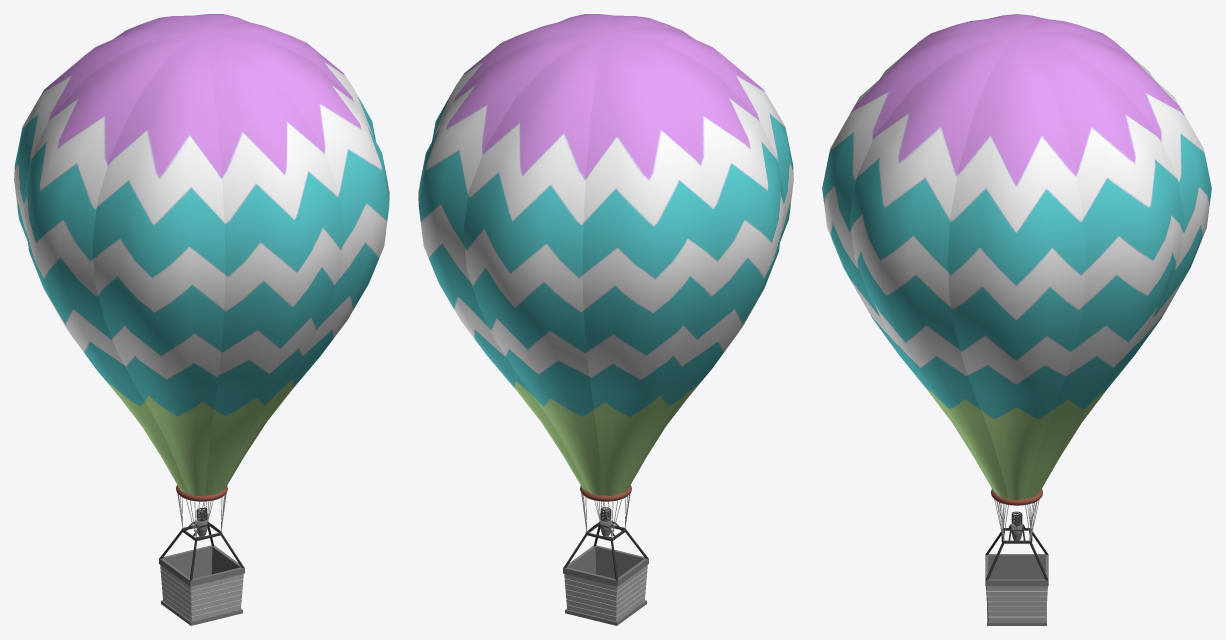
Rendered from airbaloon.obj.
3 views of the same model, side by side, from view 1: azimuth 30°, elevation 25°; view 2: azimuth 150°, elevation 25°; view 3: azimuth 270°, elevation 25° (orthographic).
Parts seen in each view (by area): view 1: V1_HotAirBalloon_Envelope_1, V1_HotAirBalloon_Basket_1; view 2: V1_HotAirBalloon_Envelope_1, V1_HotAirBalloon_Basket_1; view 3: V1_HotAirBalloon_Envelope_1, V1_HotAirBalloon_Basket_1, V1_HotAirBalloon_Cables_1.
Boxes of the visible parts, x1=… form: V1_HotAirBalloon_Envelope_1: x1=14, y1=14, x2=389, y2=501; V1_HotAirBalloon_Basket_1: x1=159, y1=525, x2=244, y2=625; V1_HotAirBalloon_Envelope_1: x1=418, y1=14, x2=793, y2=501; V1_HotAirBalloon_Basket_1: x1=563, y1=525, x2=648, y2=625; V1_HotAirBalloon_Envelope_1: x1=822, y1=14, x2=1211, y2=505; V1_HotAirBalloon_Basket_1: x1=985, y1=528, x2=1048, y2=625; V1_HotAirBalloon_Cables_1: x1=994, y1=499, x2=1039, y2=540.
Bounding box in the file's own units: 12.29 × 20.19 × 12.29.
2 materials, 2 textured.
